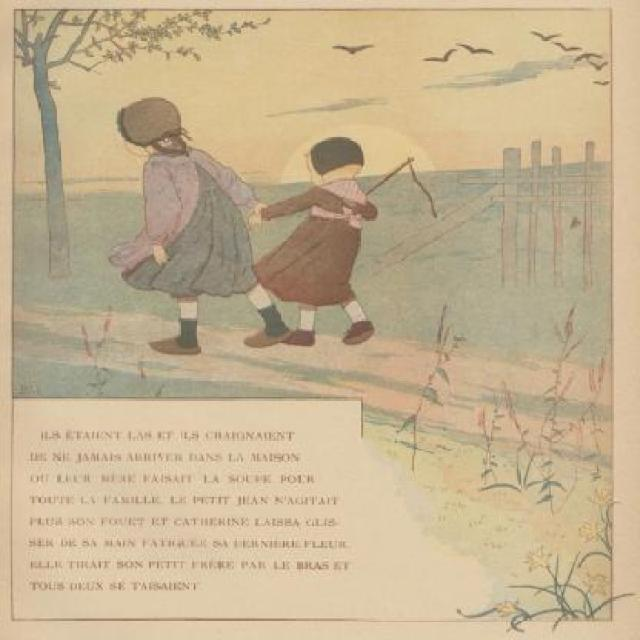Person: (102, 93, 290, 358), (245, 115, 382, 350)
